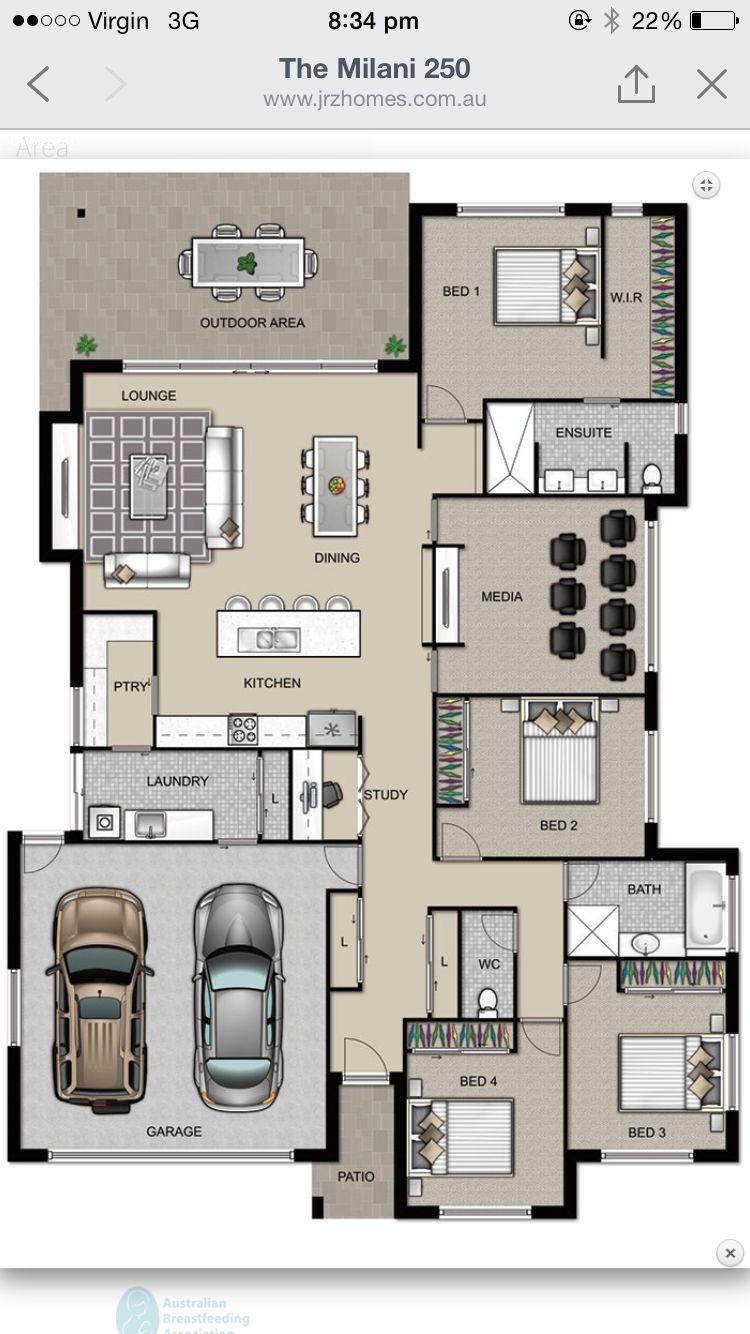room: (434, 493, 658, 696), (410, 203, 606, 402), (433, 691, 657, 861), (563, 955, 738, 1164), (392, 1017, 568, 1222), (562, 847, 739, 960)
